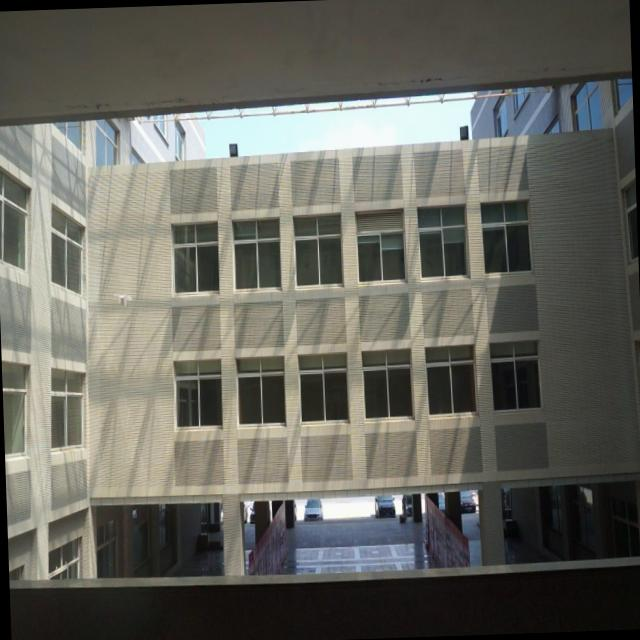drone: (111, 288, 134, 311)
